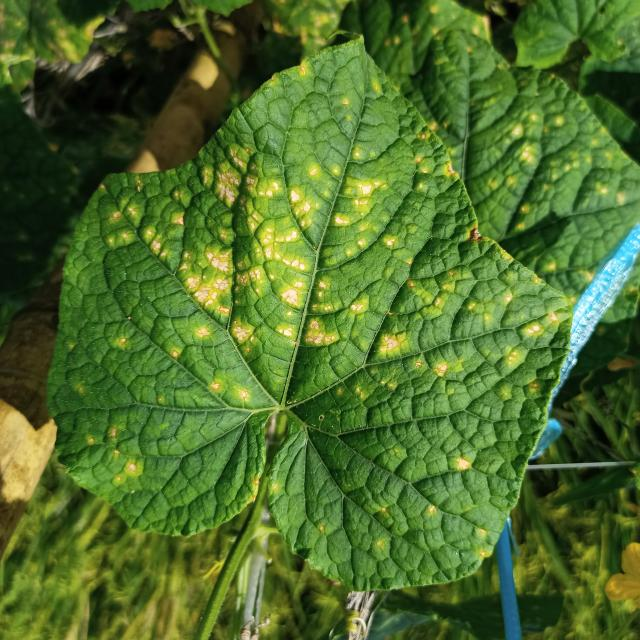disease_cucumber: (77, 127, 562, 556)
